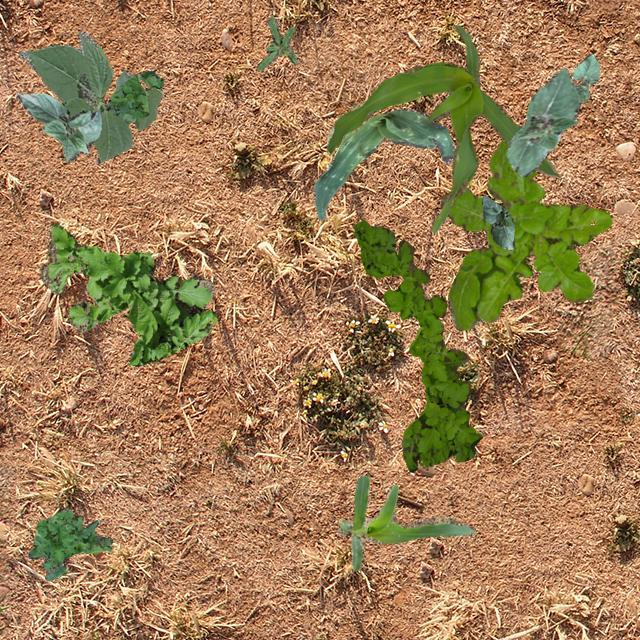crop: (326, 25, 558, 232), (17, 29, 162, 162), (312, 108, 453, 220), (336, 474, 474, 570), (506, 66, 580, 176), (15, 92, 100, 162), (482, 194, 514, 248), (570, 52, 598, 104)
weed: (439, 138, 612, 330), (352, 220, 480, 470), (38, 222, 215, 366), (27, 508, 112, 580), (106, 68, 162, 118), (255, 15, 298, 70)
